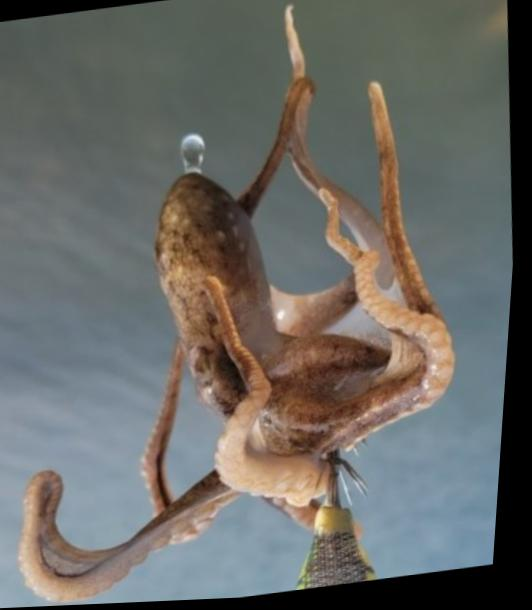Cephalopod: (24, 12, 461, 602)
